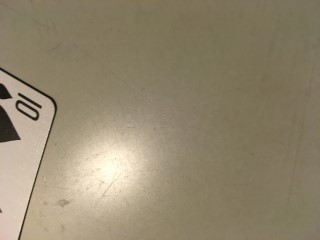TenOfSpades: (1, 66, 55, 240)
